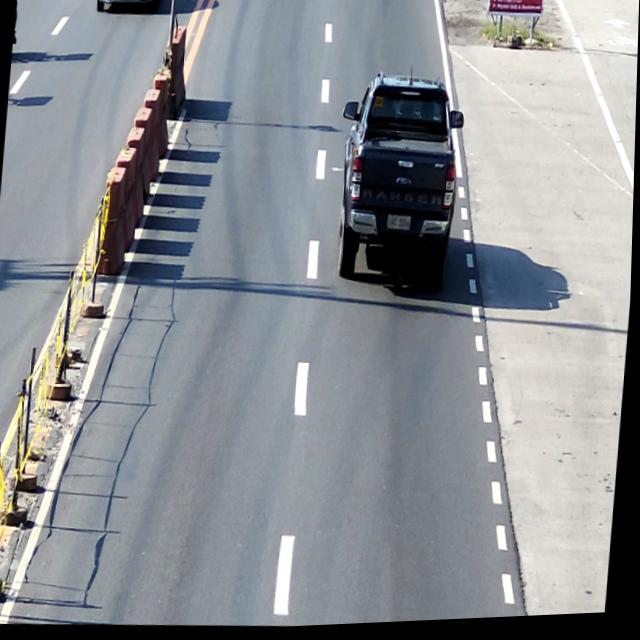Car: (330, 71, 470, 298), (97, 0, 166, 16)
License-Plate: (388, 217, 413, 235)
